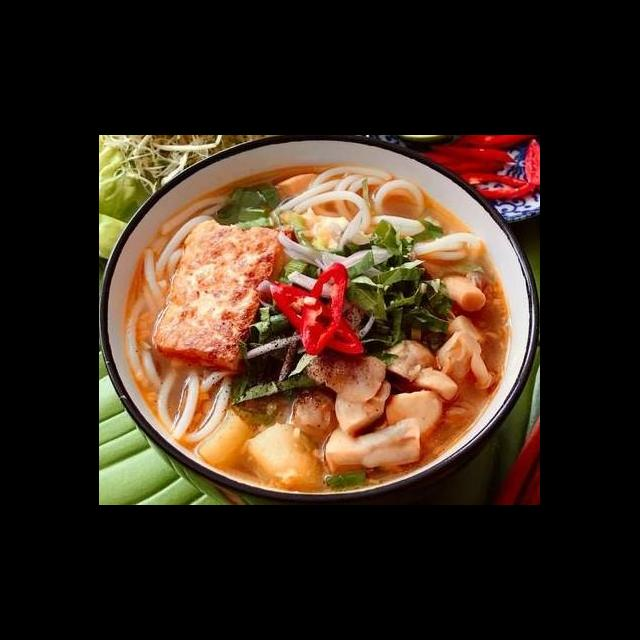bun: (270, 160, 428, 256), (140, 341, 240, 446), (366, 210, 490, 278), (148, 187, 232, 284), (122, 244, 174, 393)
